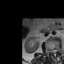CCS_normal: (53, 48, 55, 58)
LFS_stenosis: (57, 48, 59, 52)
LLS_normal: (55, 48, 57, 54)
RFS_stenosis: (49, 49, 52, 54)
RLS_normal: (52, 48, 53, 55)
